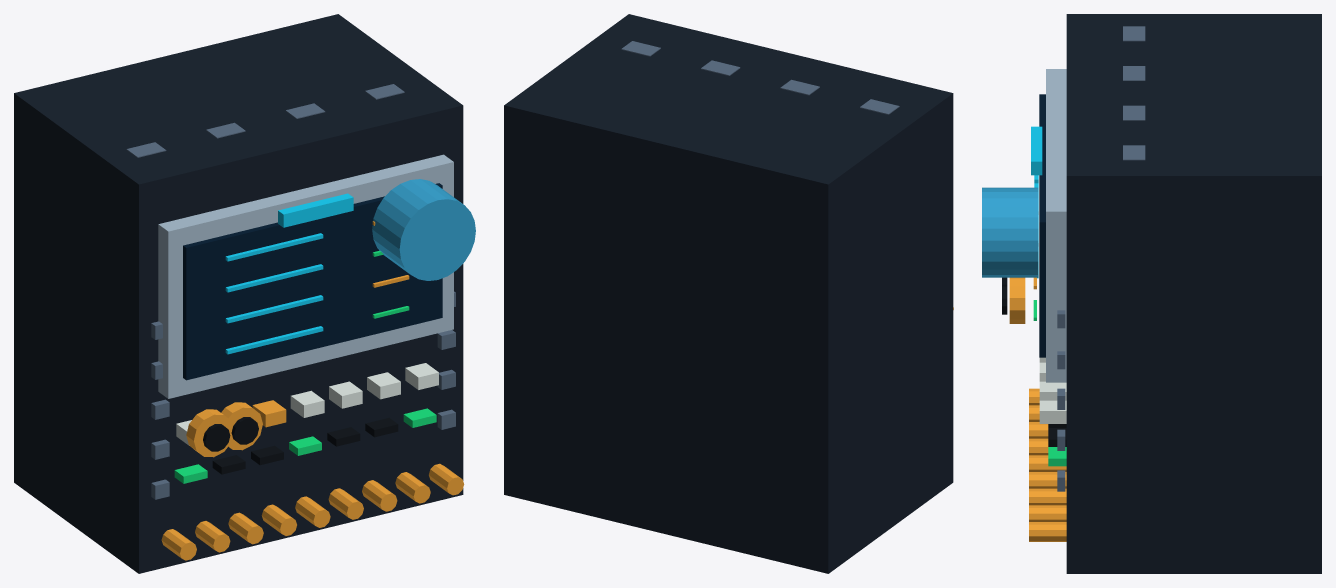
Rendered from 73_L88_AirFlowVelocityMeasurementRack.fbx.
The picture shows the model from 3 angles, left to right: view 1: azimuth 30°, elevation 25°; view 2: azimuth 150°, elevation 25°; view 3: azimuth 270°, elevation 25°; orthographic projection. The views are drawn at different scales.
Visible parts, largest first — view 1: L87_AirFlowVelocityMeasurementRack_Part_0000, L87_AirFlowVelocityMeasurementRack_Part_0002, L87_AirFlowVelocityMeasurementRack_Part_0001, L87_AirFlowVelocityMeasurementRack_Part_0009, L87_AirFlowVelocityMeasurementRack_Part_0004, L87_AirFlowVelocityMeasurementRack_Part_0008, L87_AirFlowVelocityMeasurementRack_Part_0006, L87_AirFlowVelocityMeasurementRack_Part_0003, L87_AirFlowVelocityMeasurementRack_Part_0007, L87_AirFlowVelocityMeasurementRack_Part_0005, L87_AirFlowVelocityMeasurementRack_Part_0010, L87_AirFlowVelocityMeasurementRack_Part_0011 (+3 smaller); view 2: L87_AirFlowVelocityMeasurementRack_Part_0000, L87_AirFlowVelocityMeasurementRack_Part_0008; view 3: L87_AirFlowVelocityMeasurementRack_Part_0000, L87_AirFlowVelocityMeasurementRack_Part_0001, L87_AirFlowVelocityMeasurementRack_Part_0009, L87_AirFlowVelocityMeasurementRack_Part_0004, L87_AirFlowVelocityMeasurementRack_Part_0008, L87_AirFlowVelocityMeasurementRack_Part_0002, L87_AirFlowVelocityMeasurementRack_Part_0006, L87_AirFlowVelocityMeasurementRack_Part_0013, L87_AirFlowVelocityMeasurementRack_Part_0010, L87_AirFlowVelocityMeasurementRack_Part_0005.
Boxes of the visible parts, x1,y1,x2,y2 form: L87_AirFlowVelocityMeasurementRack_Part_0000: [14, 14, 463, 573]; L87_AirFlowVelocityMeasurementRack_Part_0002: [183, 183, 442, 380]; L87_AirFlowVelocityMeasurementRack_Part_0001: [158, 154, 453, 398]; L87_AirFlowVelocityMeasurementRack_Part_0009: [372, 179, 475, 280]; L87_AirFlowVelocityMeasurementRack_Part_0004: [161, 221, 464, 560]; L87_AirFlowVelocityMeasurementRack_Part_0008: [126, 84, 455, 499]; L87_AirFlowVelocityMeasurementRack_Part_0006: [176, 363, 438, 445]; L87_AirFlowVelocityMeasurementRack_Part_0003: [225, 233, 323, 354]; L87_AirFlowVelocityMeasurementRack_Part_0007: [212, 417, 398, 474]; L87_AirFlowVelocityMeasurementRack_Part_0005: [174, 250, 436, 483]; L87_AirFlowVelocityMeasurementRack_Part_0010: [278, 193, 353, 227]; L87_AirFlowVelocityMeasurementRack_Part_0011: [186, 409, 232, 457]; L87_AirFlowVelocityMeasurementRack_Part_0000: [504, 14, 953, 573]; L87_AirFlowVelocityMeasurementRack_Part_0008: [621, 41, 899, 114]; L87_AirFlowVelocityMeasurementRack_Part_0000: [1066, 14, 1321, 573]; L87_AirFlowVelocityMeasurementRack_Part_0001: [1046, 69, 1066, 382]; L87_AirFlowVelocityMeasurementRack_Part_0009: [982, 187, 1038, 277]; L87_AirFlowVelocityMeasurementRack_Part_0004: [1029, 277, 1066, 541]; L87_AirFlowVelocityMeasurementRack_Part_0008: [1057, 26, 1145, 491]; L87_AirFlowVelocityMeasurementRack_Part_0002: [1039, 94, 1045, 357]; L87_AirFlowVelocityMeasurementRack_Part_0006: [1039, 357, 1066, 423]; L87_AirFlowVelocityMeasurementRack_Part_0013: [1009, 277, 1025, 323]; L87_AirFlowVelocityMeasurementRack_Part_0010: [1031, 126, 1042, 175]; L87_AirFlowVelocityMeasurementRack_Part_0005: [1033, 300, 1066, 466].
Size of the model in its own units: 104 by 120 by 92.31.
